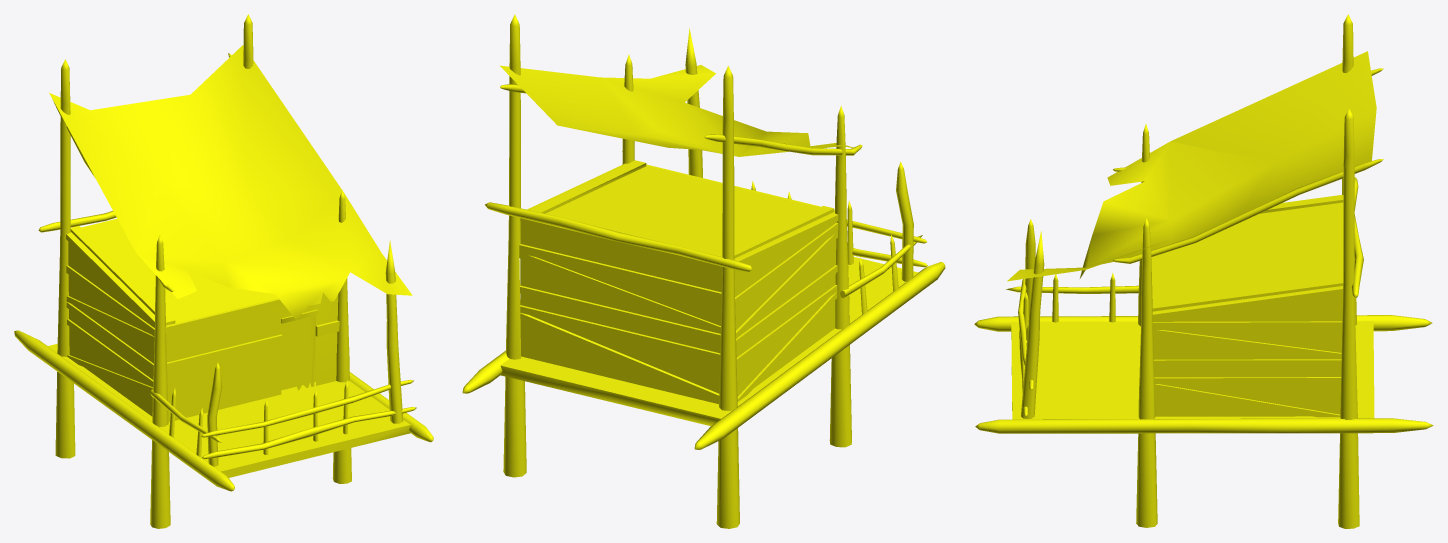
Rendered from gaint_builda_02.glb.
3 renders of one model, left to right at view 1: azimuth 30°, elevation 25°; view 2: azimuth 150°, elevation 25°; view 3: azimuth 270°, elevation 25°, orthographic. The views are drawn at different scales.
Parts seen in each view (by area): view 1: objObject03, Object19, objObject01; view 2: Object19, objObject01, objObject03; view 3: objObject03, Object19, objObject01.
Part boxes in pixels (x1,y1,x2,y2): objObject03: (47, 45, 412, 477); Object19: (66, 219, 340, 422); objObject01: (14, 14, 433, 528); Object19: (519, 160, 838, 404); objObject01: (462, 14, 945, 528); objObject03: (500, 65, 918, 425); objObject03: (1007, 51, 1376, 419); Object19: (1151, 195, 1343, 417); objObject01: (974, 14, 1433, 528).
Bounding box in the file's own units: 9.59 × 15.71 × 15.73.
Materials: 3 (3 with a texture image).
